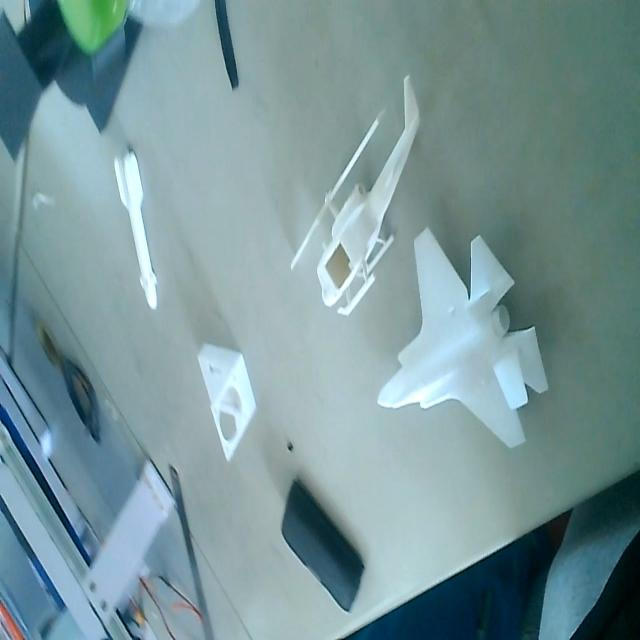Helicopter: (291, 70, 420, 325)
Jet: (377, 225, 550, 473)
Rocket: (111, 140, 163, 323)
